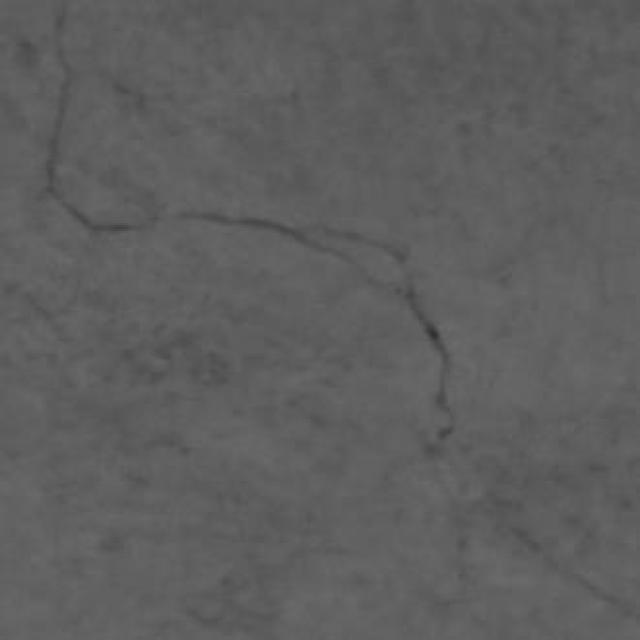crack: (175, 212, 455, 453), (43, 2, 155, 234), (175, 212, 383, 288), (509, 526, 639, 622), (398, 272, 455, 451)
